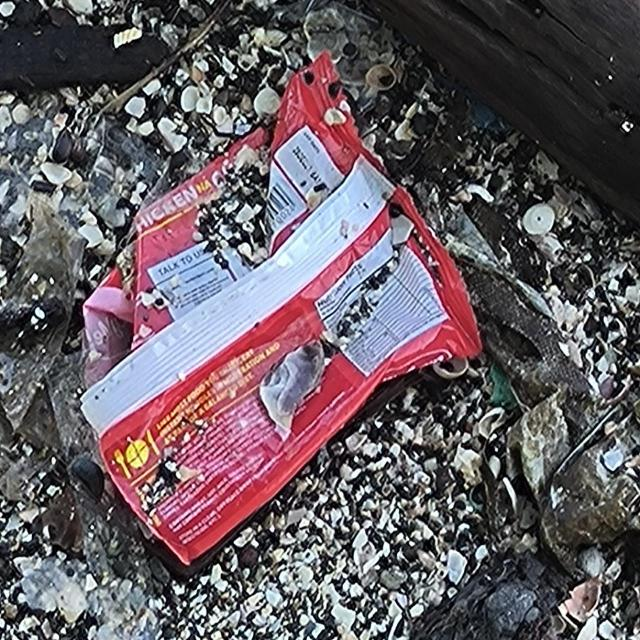plastic_waste: (78, 48, 486, 570)
